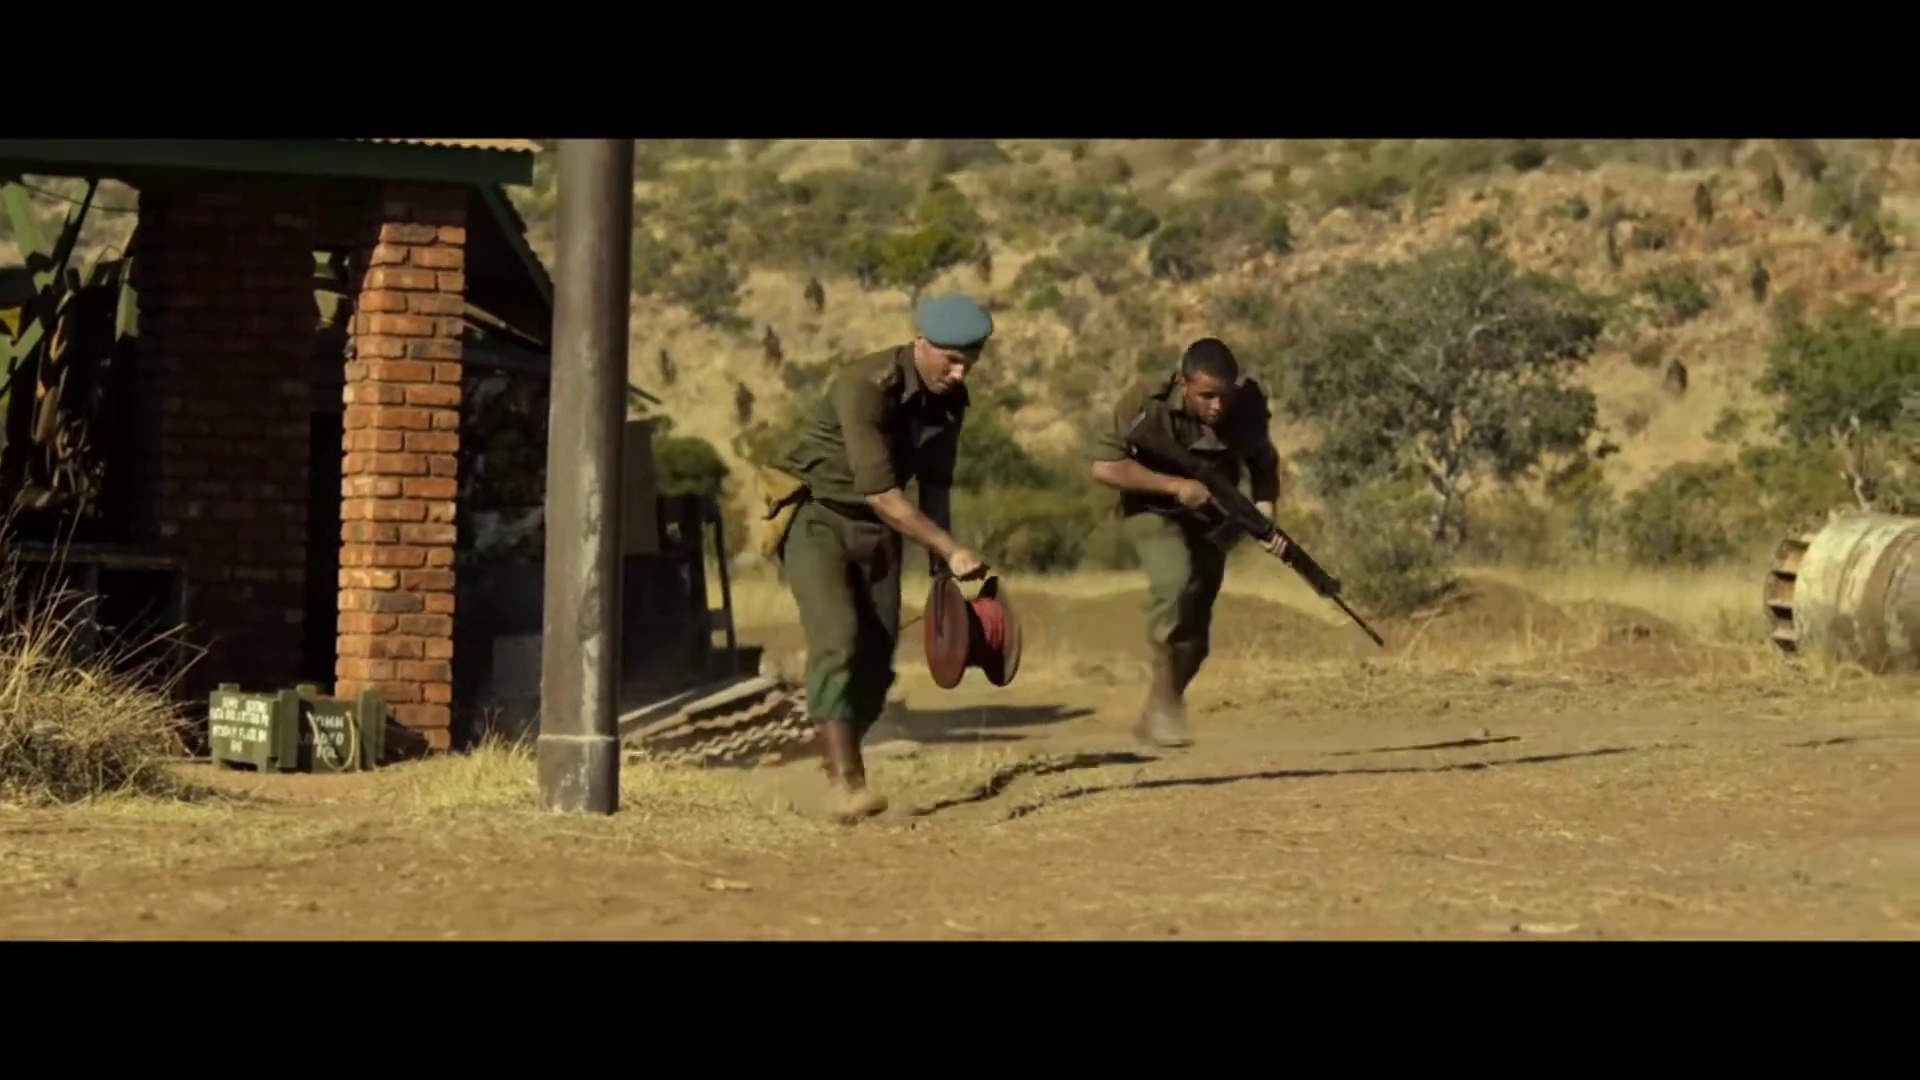gun: (1124, 413, 1387, 651)
p_w_gun: (1084, 331, 1386, 750)
p_wo_gun_carrying_another_object: (756, 284, 1031, 831)
